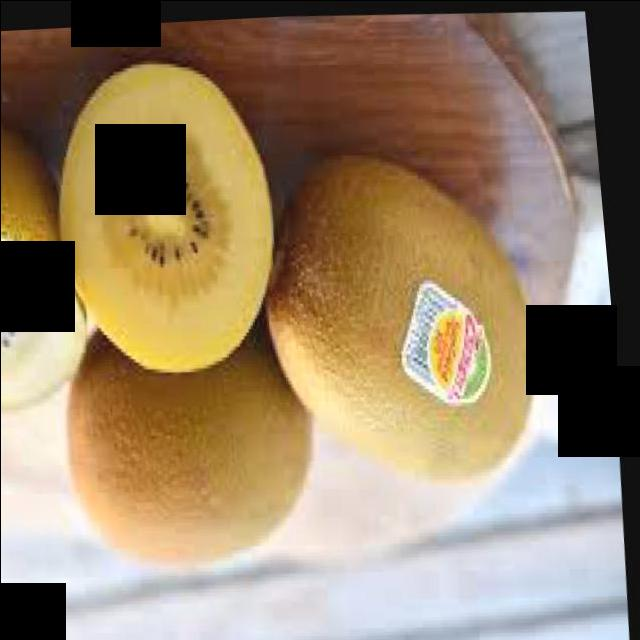kiwi: (252, 140, 564, 493), (57, 299, 338, 578)
